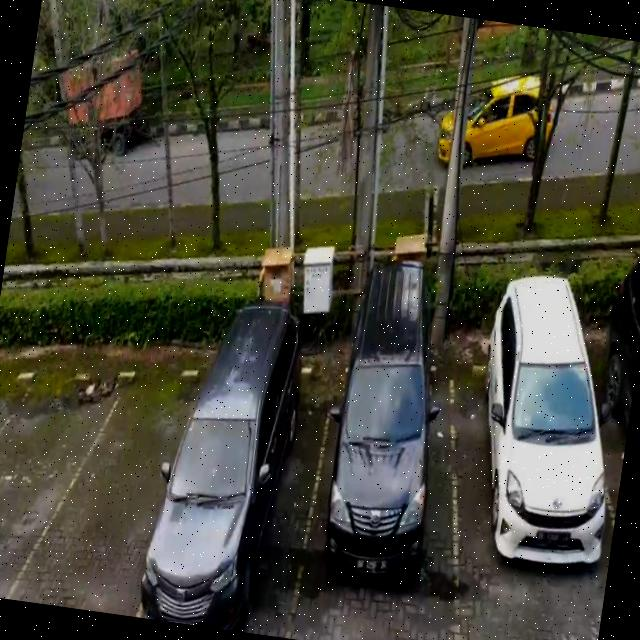empty: (44, 357, 180, 618), (0, 364, 85, 605)
occupied: (437, 337, 638, 640), (136, 354, 334, 640), (292, 334, 475, 640)
